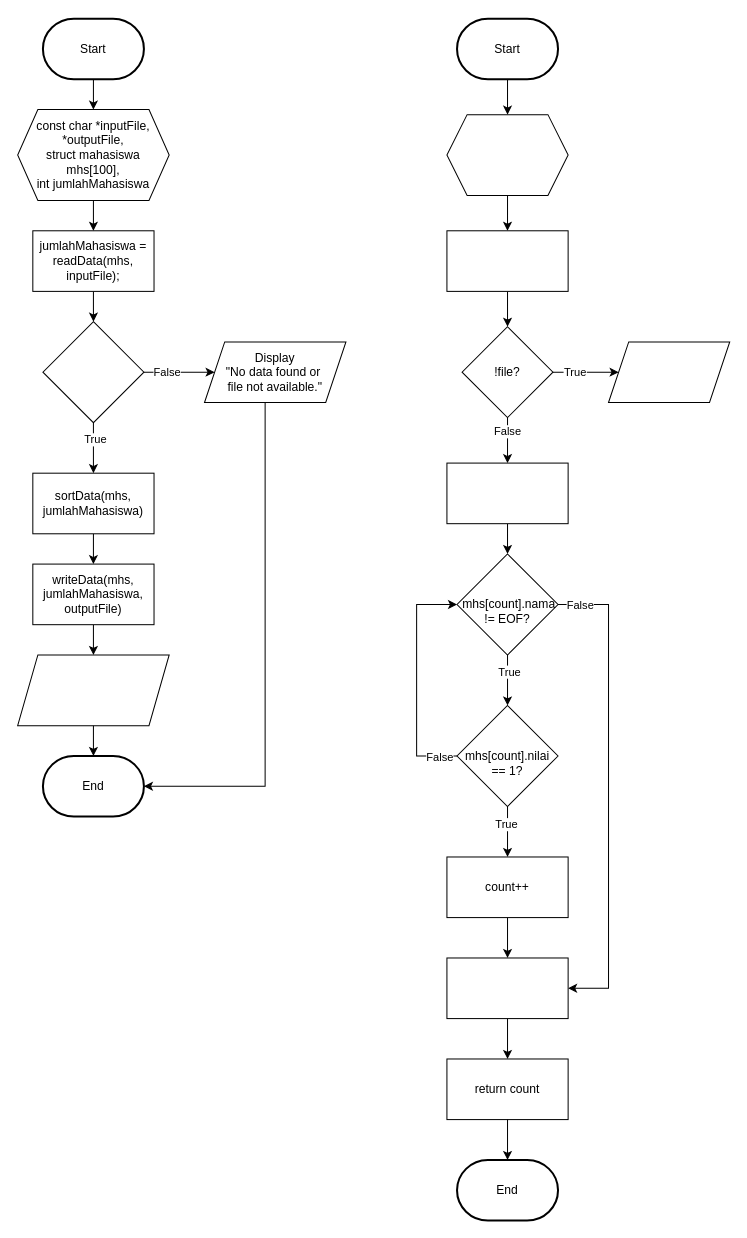
This 747x1238 diagram has some shape labels left out. Here are the shapes that lost their labels. From the top down, the box of each, then its label:
(446, 114, 568, 195): struct mahasiswa mhs[], const char *filename, *file, int count
(446, 230, 568, 291): FILE *file = fopen(filename, "r")
(42, 321, 144, 423): jumlahMahasiswa == 0?
(608, 341, 730, 402): Display "File cannot be opened"
(446, 462, 568, 524): count = 0
(17, 654, 169, 726): Display "Data has been sorted and saved to file"
(446, 957, 568, 1019): close file
